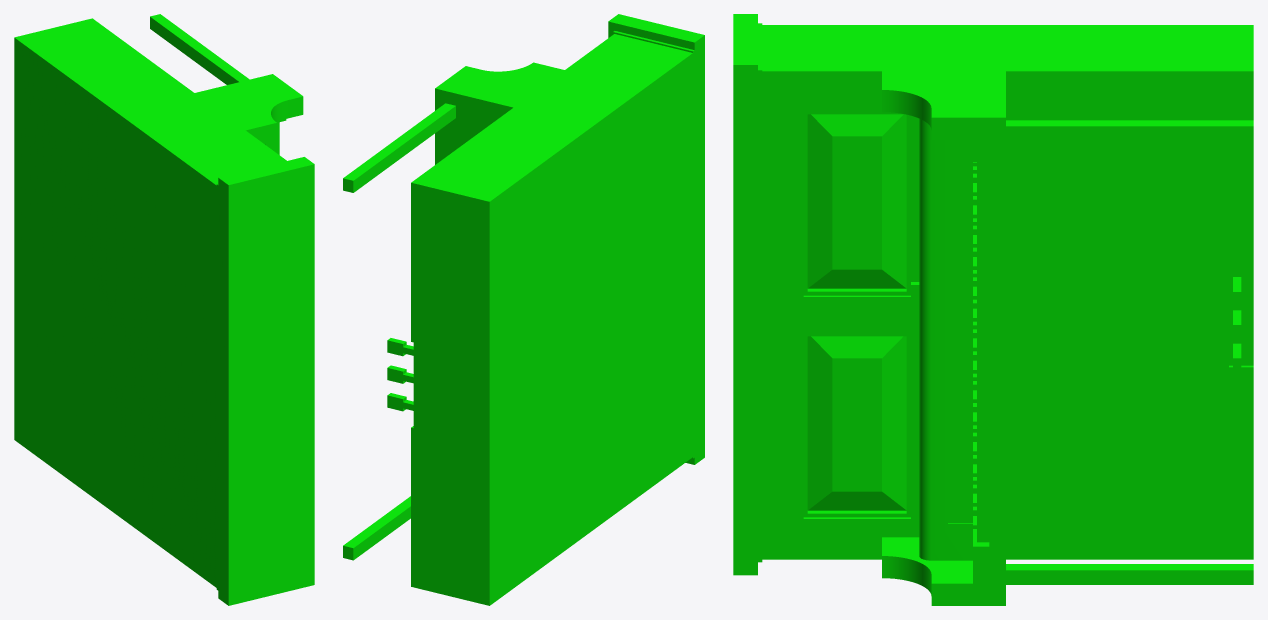
The model's file is Apartment_robot.dae.
3 views of the same model, side by side, from view 1: azimuth 30°, elevation 25°; view 2: azimuth 150°, elevation 25°; view 3: azimuth 270°, elevation 25° (orthographic). The views are drawn at different scales.
Parts seen in each view (by area): view 1: instance_0 (×2); view 2: instance_0 (×3); view 3: instance_0 (×10).
Part boxes in pixels (x1,y1,x2,y2): instance_0 (×2): (14,14,314,605); instance_0 (×3): (343,14,704,605); instance_0 (×10): (733,14,1253,605).
Size of the model in its own units: 23.1 by 54.81 by 59.34.
